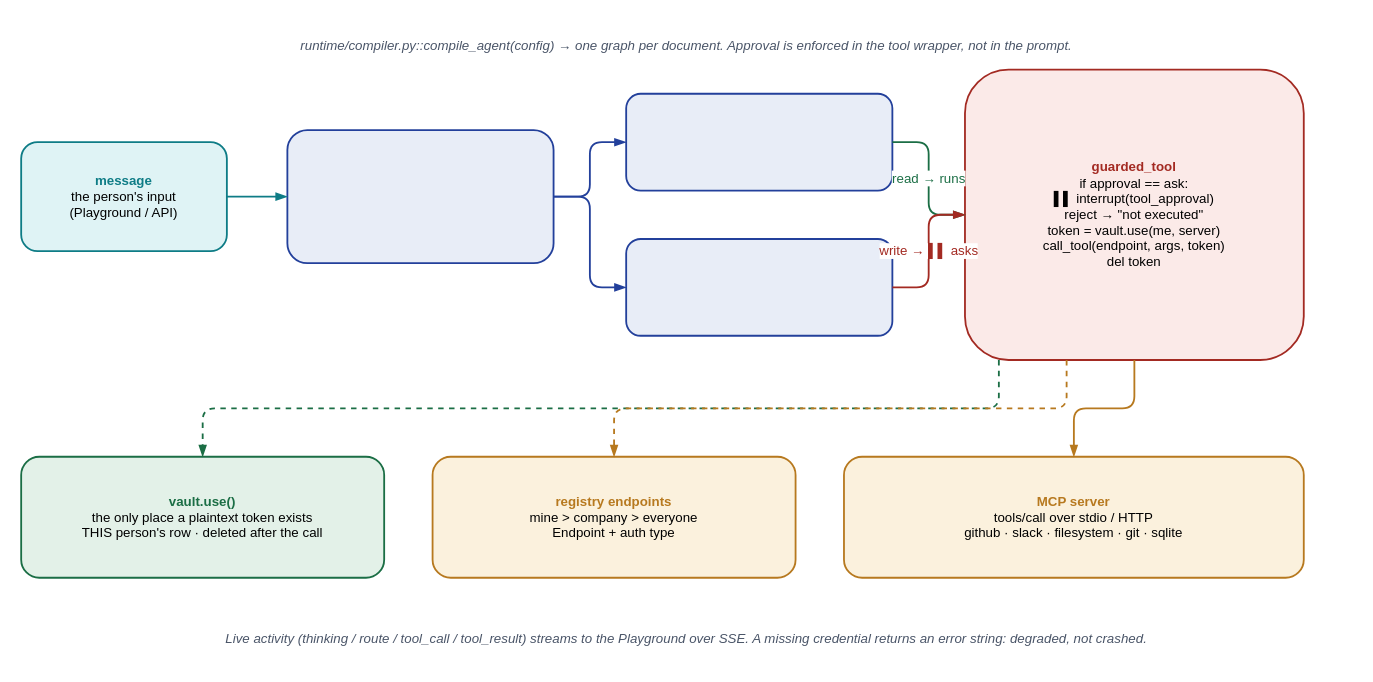
The diagram is 1373 pixels wide and 682 high, and some of its shapes have lost their labels. Here are the shapes that lost their labels. From the top down, the centre of each, then its label:
(x=759, y=141): collector github.list_issues (read)
(x=420, y=196): supervisor a model with NO tools routes: collector → poster
(x=759, y=287): poster slack.slack_send_message (write)
